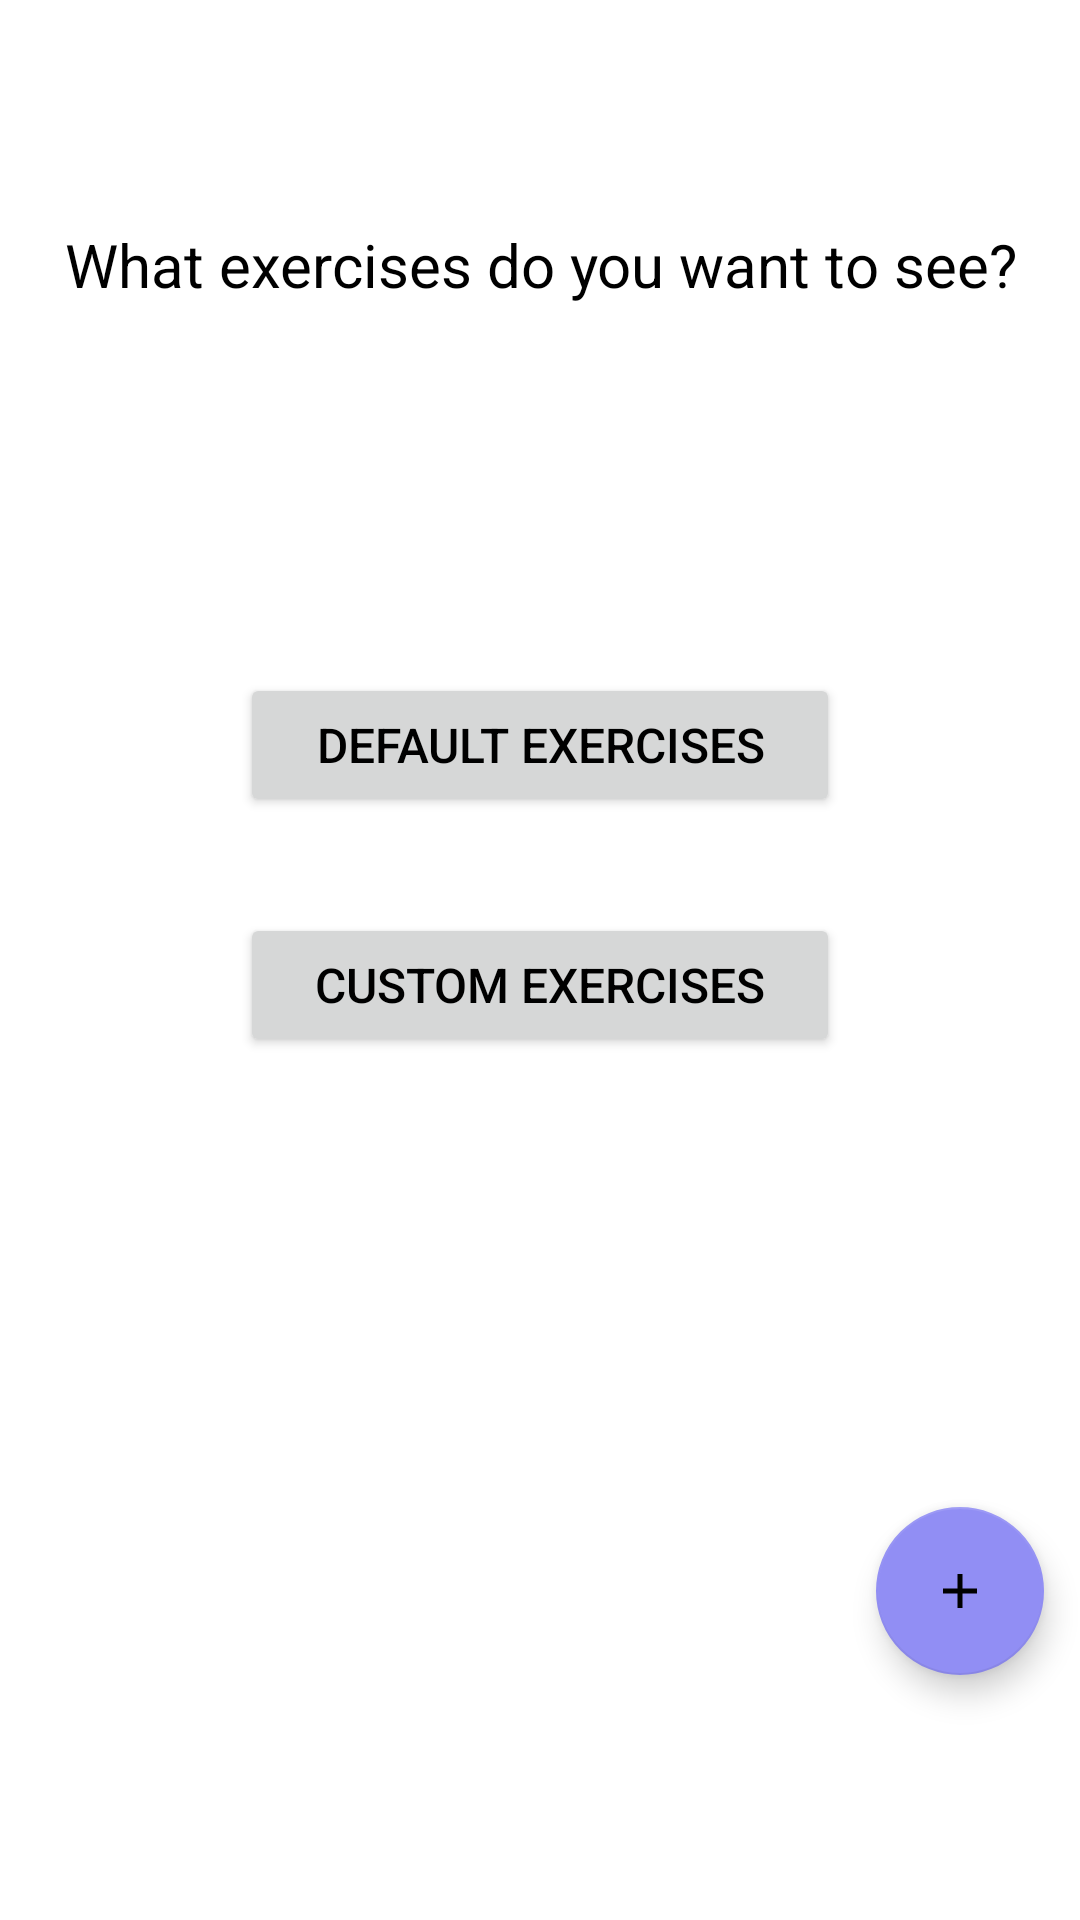

Icon click points for this 1080px×1920px phone screenshot, format point (x, y):
add: point (960, 1591)
